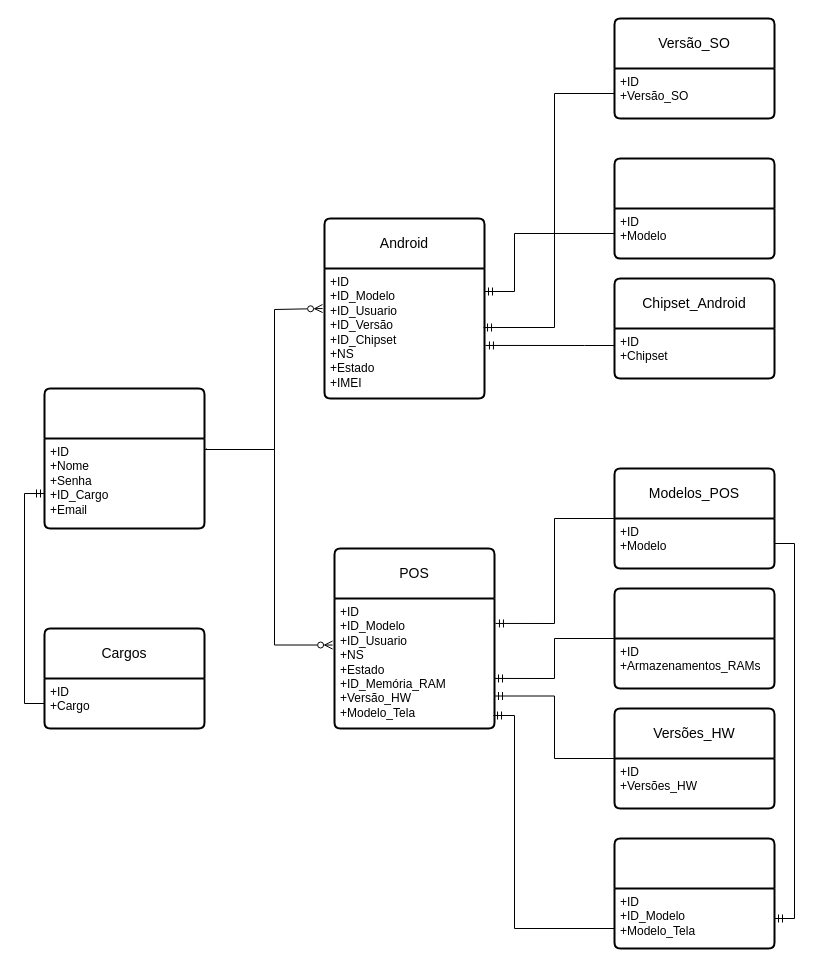
The diagram is 820 pixels wide and 970 high, and some of its shapes have lost their labels. The shapes that lost their labels are listed below. From the top down, each one's box as (x1, y1, x2, y2) in pixels, then its label:
(613, 157, 775, 259): Modelos_Android
(43, 387, 205, 529): Usuário
(613, 587, 775, 689): Armazenamento_RAM
(613, 837, 775, 949): Modelos_Tela
